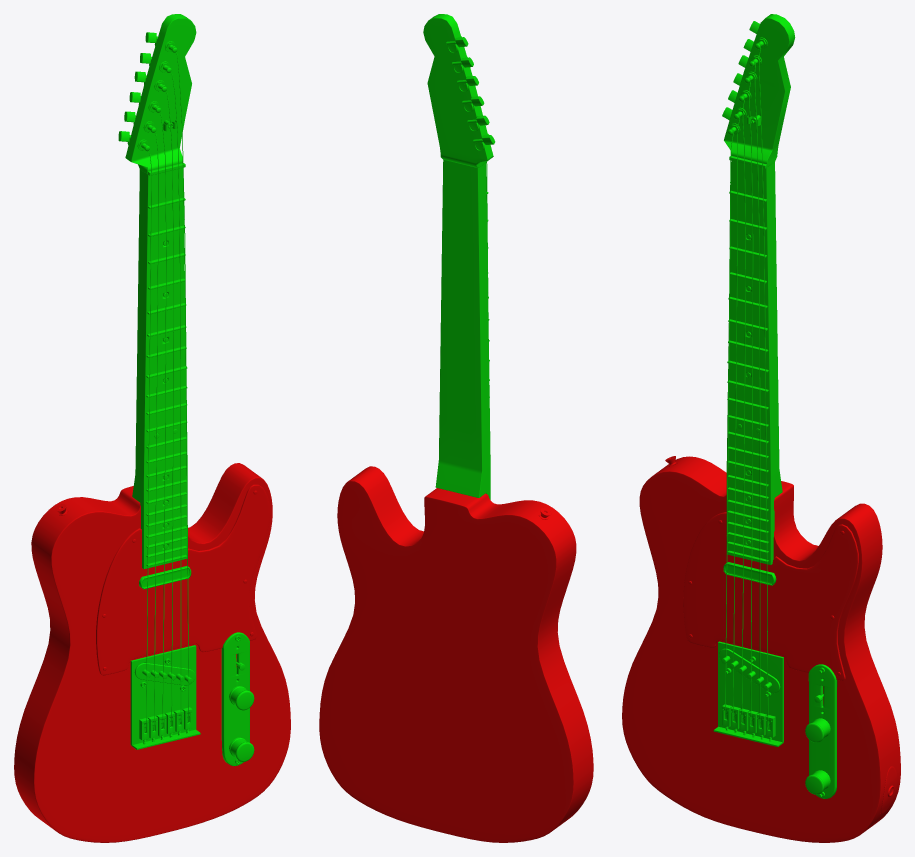
Rendered from Guitar.fbx.
3 renders of one model, left to right at view 1: azimuth 30°, elevation 25°; view 2: azimuth 150°, elevation 25°; view 3: azimuth 330°, elevation 25°, orthographic.
Parts seen in each view (by area): view 1: polySurface1, pCube1, pCube46, pCube2, pCube65, pCube5, pCylinder102, pCylinder103, pCylinder100, pCylinder101, pCylinder5, pCylinder99 (+2 smaller); view 2: polySurface1, pCube1, pCube2; view 3: polySurface1, pCube1, pCube46, pCube2, pCube65, pCube5, pCylinder102, pCylinder103, pCylinder100, pCylinder101, pCylinder5, pCylinder98 (+2 smaller).
Boxes of the visible parts, x1=… form: polySurface1: x1=14, y1=463, x2=290, y2=842; pCube1: x1=132, y1=168, x2=187, y2=569; pCube46: x1=96, y1=484, x2=270, y2=675; pCube2: x1=125, y1=14, x2=196, y2=174; pCube65: x1=130, y1=645, x2=196, y2=745; pCube5: x1=221, y1=632, x2=249, y2=766; pCylinder102: x1=165, y1=66, x2=181, y2=724; pCylinder103: x1=171, y1=46, x2=188, y2=722; pCylinder100: x1=154, y1=106, x2=166, y2=728; pCylinder101: x1=160, y1=85, x2=173, y2=726; pCylinder5: x1=134, y1=662, x2=195, y2=685; pCylinder99: x1=150, y1=126, x2=158, y2=730; polySurface1: x1=319, y1=466, x2=593, y2=842; pCube1: x1=435, y1=159, x2=490, y2=499; pCube2: x1=423, y1=14, x2=493, y2=167; polySurface1: x1=622, y1=456, x2=900, y2=842; pCube1: x1=726, y1=160, x2=782, y2=564; pCube46: x1=683, y1=512, x2=858, y2=680; pCube2: x1=724, y1=14, x2=795, y2=167; pCube65: x1=718, y1=641, x2=783, y2=742; pCube5: x1=808, y1=664, x2=837, y2=798; pCylinder102: x1=751, y1=60, x2=761, y2=728; pCylinder103: x1=756, y1=42, x2=769, y2=729; pCylinder100: x1=740, y1=94, x2=745, y2=723; pCylinder101: x1=746, y1=76, x2=753, y2=725; pCylinder5: x1=719, y1=648, x2=780, y2=693; pCylinder98: x1=725, y1=128, x2=734, y2=719.
Bounding box in the file's own units: 44.44 × 134 × 9.17.
